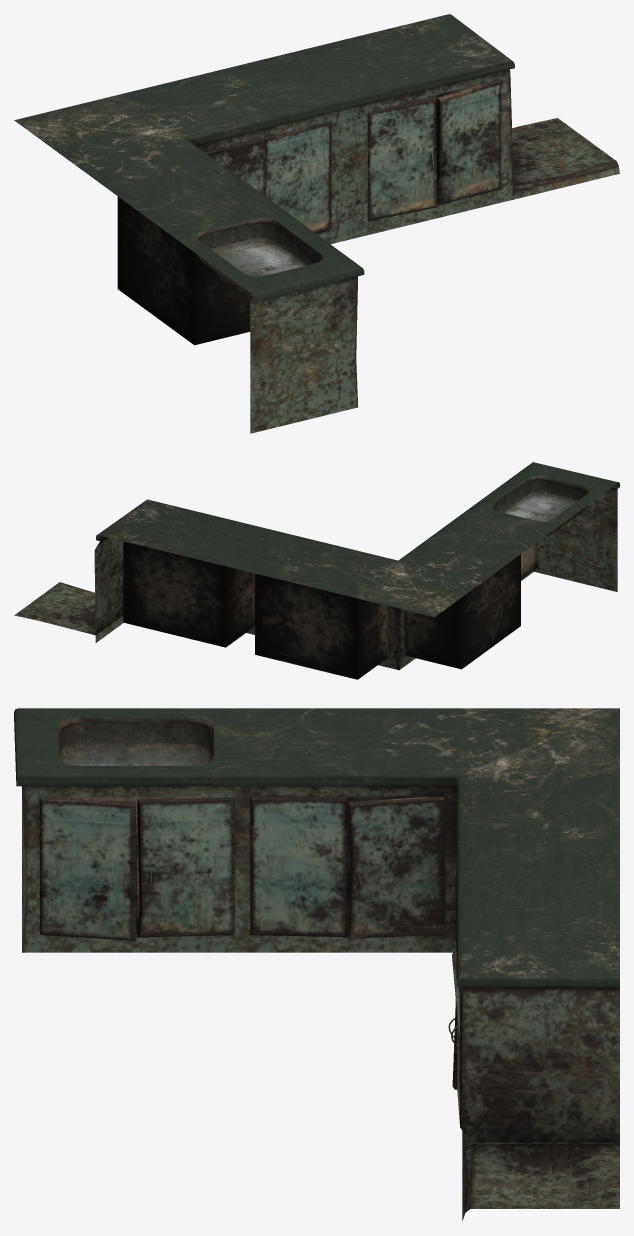
File: LStorage.FBX
3 views of the same model, one above another, from view 1: azimuth 30°, elevation 25°; view 2: azimuth 150°, elevation 25°; view 3: azimuth 270°, elevation 25° (orthographic). The views are drawn at different scales.
Parts seen in each view (by area): view 1: LStorage, LDoor_07, LDoor_08, LDoor_06, LDoor_05; view 2: LStorage; view 3: LStorage, LDoor_03, LDoor_01, LDoor_02, LDoor_04, LDoor_08.
Boxes of the visible parts, bbox=[...] form: LStorage: bbox=[14, 14, 619, 433]; LDoor_07: bbox=[368, 96, 437, 220]; LDoor_08: bbox=[436, 80, 500, 204]; LDoor_06: bbox=[264, 121, 330, 233]; LDoor_05: bbox=[205, 138, 265, 196]; LStorage: bbox=[14, 462, 619, 679]; LStorage: bbox=[14, 708, 619, 1220]; LDoor_03: bbox=[250, 797, 347, 937]; LDoor_01: bbox=[40, 797, 136, 940]; LDoor_02: bbox=[137, 797, 234, 937]; LDoor_04: bbox=[347, 797, 444, 938]; LDoor_08: bbox=[451, 951, 462, 1129].
Bounding box in the file's own units: 357 × 88.18 × 272.
1 material, 1 textured.
